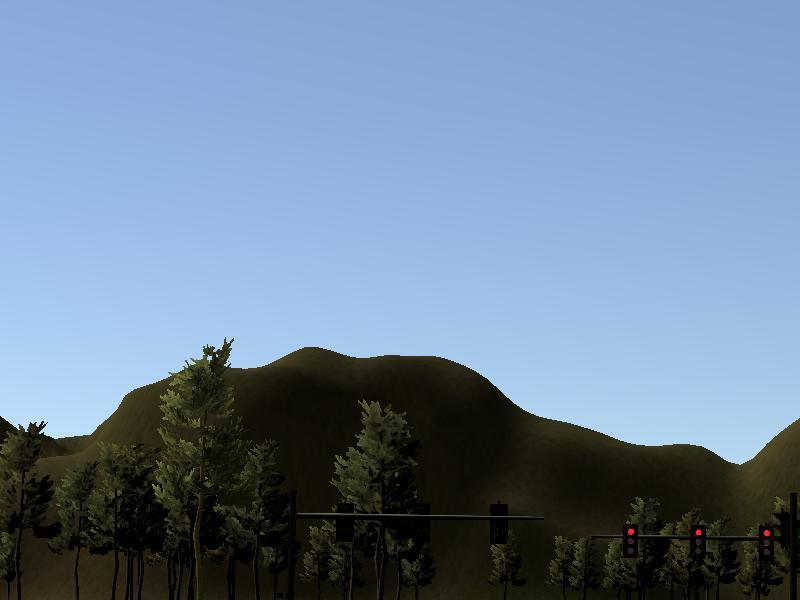Red: (690, 526, 706, 561), (759, 524, 775, 559), (622, 523, 638, 558)
